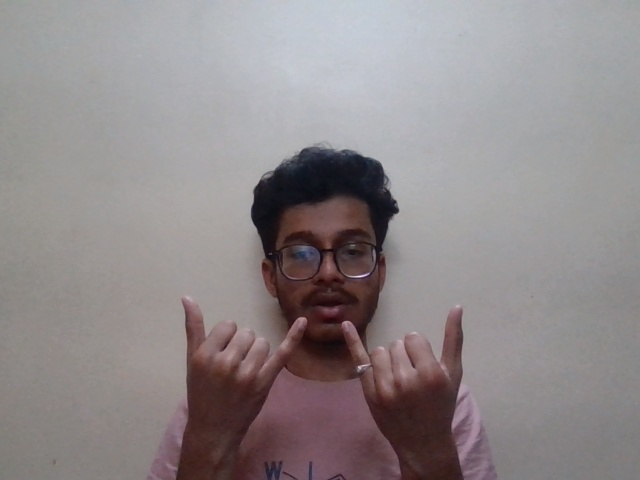today: (175, 287, 474, 432)
